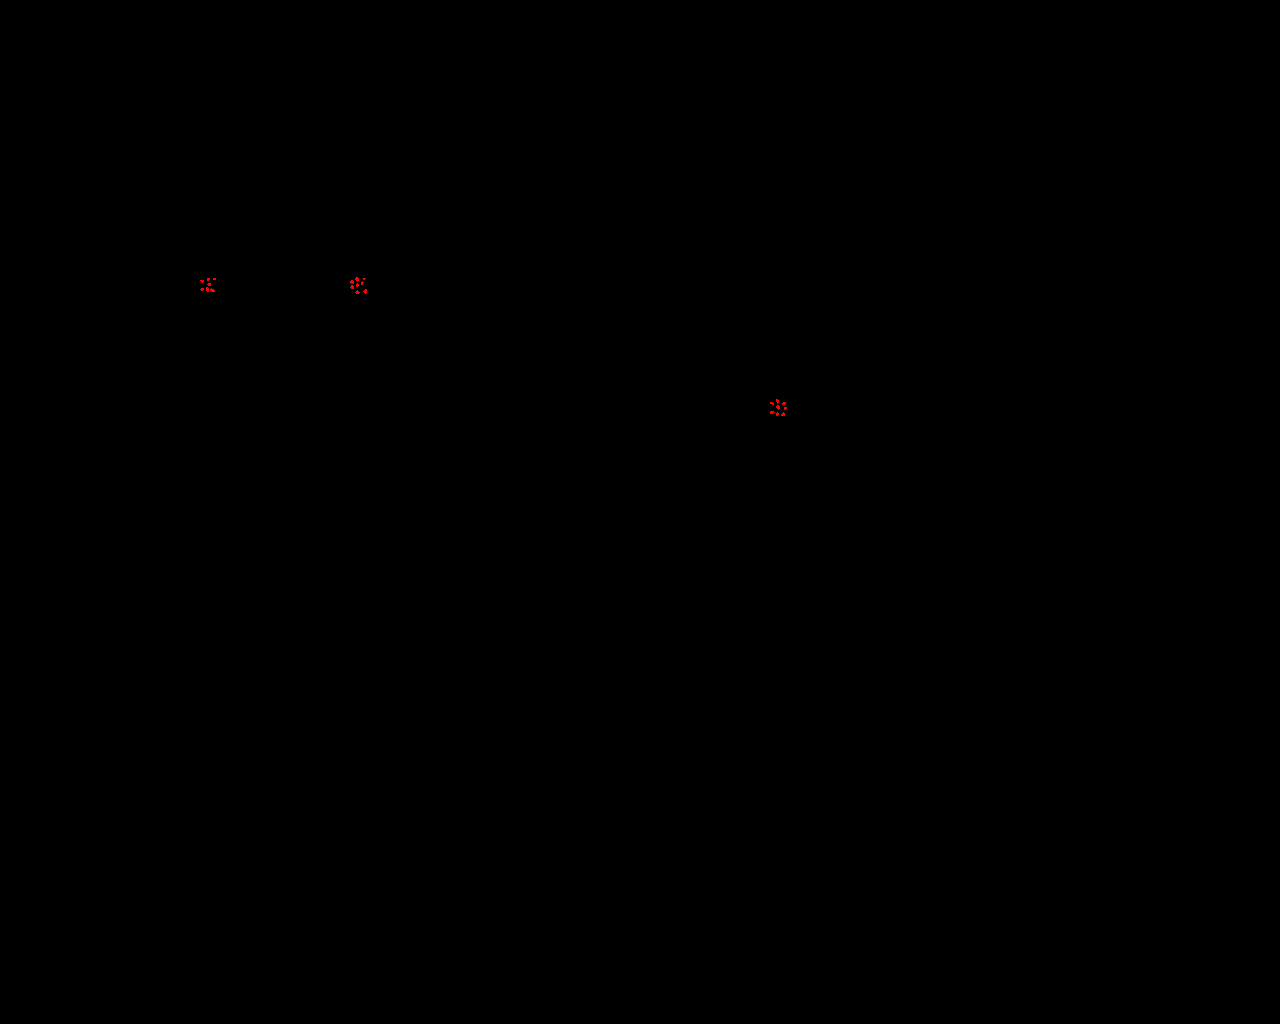Target: (355, 277, 359, 282), (350, 280, 354, 284), (350, 285, 354, 289), (363, 289, 367, 294), (781, 412, 785, 416), (210, 288, 215, 292), (355, 290, 360, 294), (776, 399, 779, 404), (770, 411, 775, 414), (200, 280, 204, 283), (360, 281, 364, 285), (207, 283, 211, 286), (356, 283, 359, 287), (206, 287, 209, 292), (770, 402, 774, 405), (782, 402, 786, 405), (776, 405, 779, 410), (776, 412, 779, 416), (207, 278, 210, 281), (200, 288, 204, 290), (213, 278, 216, 280), (363, 278, 366, 280), (784, 408, 787, 410)
